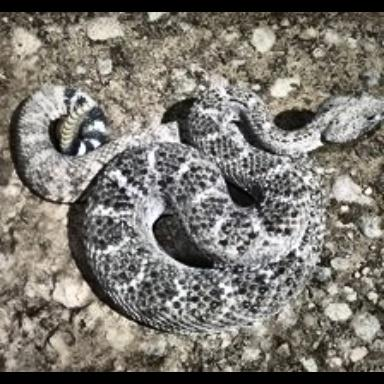snake: (0, 12, 384, 369)
